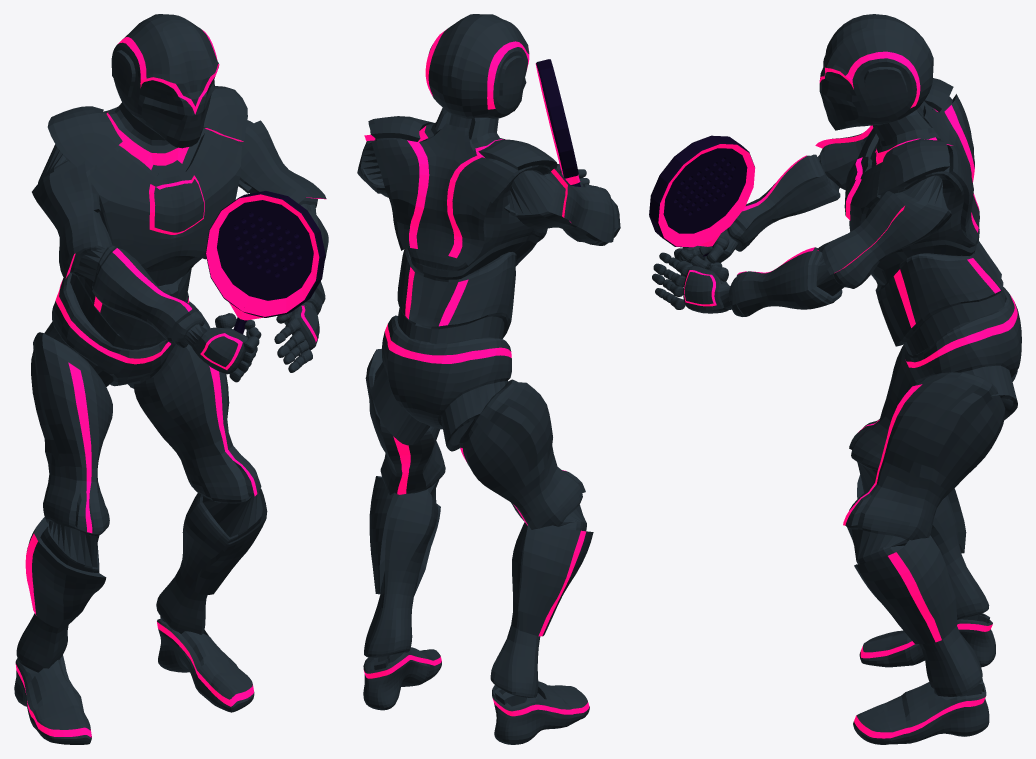
Rendered from Player3.glb.
3 renders of one model, left to right at view 1: azimuth 30°, elevation 25°; view 2: azimuth 150°, elevation 25°; view 3: azimuth 270°, elevation 25°, orthographic. The views are drawn at different scales.
Visible parts, largest first — view 1: Alpha_Surface; view 2: Alpha_Surface; view 3: Alpha_Surface.
Part boxes in pixels (<box>): Alpha_Surface: <box>14,14,328,744</box>; Alpha_Surface: <box>357,14,620,744</box>; Alpha_Surface: <box>649,14,1021,744</box>.
Size of the model in its own units: 0.5905 by 1.55 by 0.7579.
